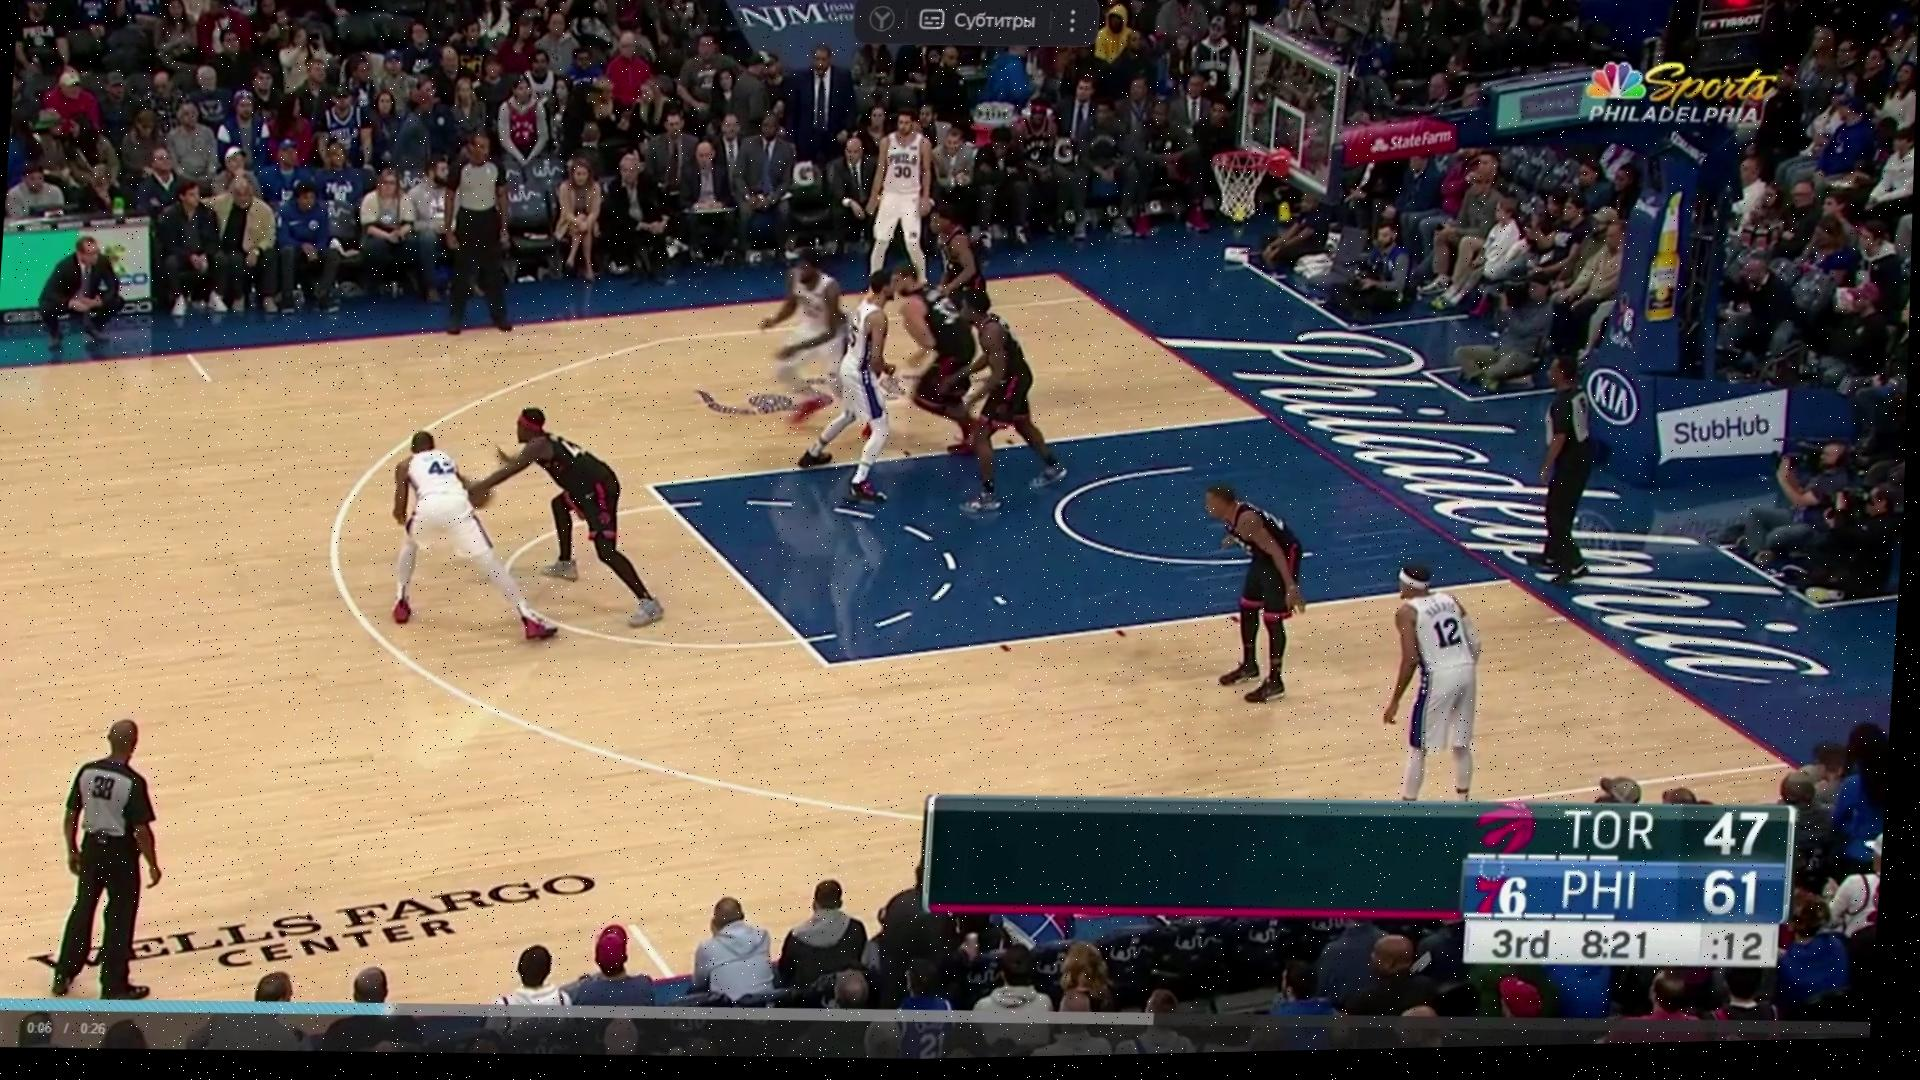no_foul: (831, 239, 1017, 477)
